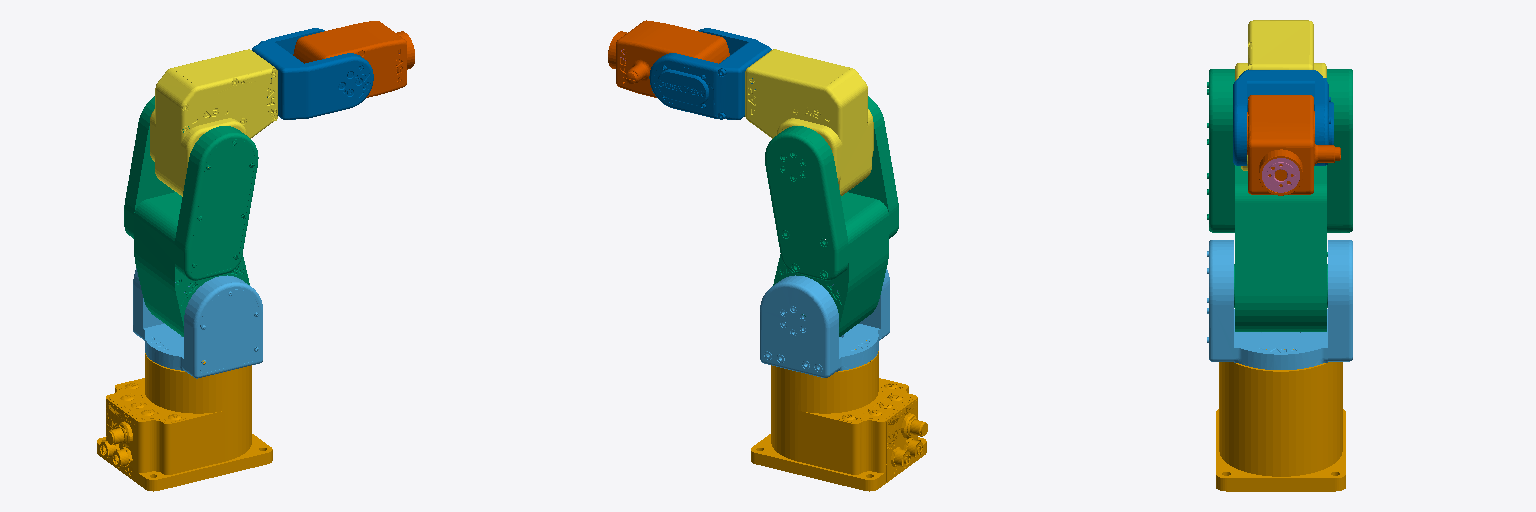
robot.urdf — meca_500_r3:
<?xml version="1.0" ?>
<!-- =================================================================================== -->
<!-- |    This document was autogenerated by xacro from meca_500_r3.urdf.xacro         | -->
<!-- |    EDITING THIS FILE BY HAND IS NOT RECOMMENDED                                 | -->
<!-- =================================================================================== -->
<robot name="meca_500_r3">
  <mujoco>
    <compiler 
    meshdir="meshes" 
    balanceinertia="true" 
    discardvisual="false" />
  </mujoco>
  <!-- Base link is the center of the robot's bottom plate -->
  <link name="meca_base_link">
    <visual>
      <origin rpy="0 0 0" xyz="0 0 0"/>
      <geometry>
        <mesh filename="meca_500_r3_base.stl" />
      </geometry>
    </visual>
    <collision>
      <origin rpy="0 0 0" xyz="0 0 0"/>
      <geometry>
        <mesh filename="meca_500_r3_base_collision.stl"/>
      </geometry>
    </collision>
  </link>
  <!-- Joint 1 -->
  <link name="meca_axis_1_link">
    <visual>
      <origin rpy="0 0 0" xyz="0 0 0"/>
      <geometry>
        <mesh filename="meca_500_r3_j1.stl"/>
      </geometry>
    </visual>
    <collision>
      <origin rpy="0 0 0" xyz="0 0 0"/>
      <geometry>
        <mesh filename="meca_500_r3_j1_collision.stl"/>
      </geometry>
    </collision>
  </link>
  <joint name="meca_axis_1_joint" type="revolute">
    <origin rpy="0 0 0" xyz="0.012498 0 0.091"/>
    <parent link="meca_base_link"/>
    <child link="meca_axis_1_link"/>
    <axis xyz="0 0 1"/>
    <limit effort="10.0" lower="-3.05433" upper="3.05433" velocity="2.61799"/>
  </joint>
  <!-- Joint 2 -->
  <link name="meca_axis_2_link">
    <visual>
      <origin rpy="0 0 0" xyz="0 0 0"/>
      <geometry>
        <mesh filename="meca_500_r3_j2.stl"/>
      </geometry>
    </visual>
    <collision>
      <origin rpy="0 0 0" xyz="0 0 0"/>
      <geometry>
        <mesh filename="meca_500_r3_j2_collision.stl"/>
      </geometry>
    </collision>
  </link>
  <joint name="meca_axis_2_joint" type="revolute">
    <origin rpy="0 0 0" xyz="0 0 0.044"/>
    <parent link="meca_axis_1_link"/>
    <child link="meca_axis_2_link"/>
    <axis xyz="0 1 0"/>
    <limit effort="10.0" lower="-1.22173048" upper="1.5708" velocity="2.61799"/>
  </joint>
  <!-- Joint 3 -->
  <link name="meca_axis_3_link">
    <visual>
      <origin rpy="0 0 0" xyz="0 0 0"/>
      <geometry>
        <mesh filename="meca_500_r3_j3.stl"/>
      </geometry>
    </visual>
    <collision>
      <origin rpy="0 0 0" xyz="0 0 0"/>
      <geometry>
        <mesh filename="meca_500_r3_j3_collision.stl"/>
      </geometry>
    </collision>
  </link>
  <joint name="meca_axis_3_joint" type="revolute">
    <origin rpy="0 0 0" xyz="0 0 0.135"/>
    <parent link="meca_axis_2_link"/>
    <child link="meca_axis_3_link"/>
    <axis xyz="0 1 0"/>
    <limit effort="10.0" lower="-2.35619" upper="1.22173048" velocity="3.14159"/>
  </joint>
  <!-- Joint 4 -->
  <link name="meca_axis_4_link">
    <visual>
      <origin rpy="0 0 0" xyz="0 0 0"/>
      <geometry>
        <mesh filename="meca_500_r3_j4.stl"/>
      </geometry>
    </visual>
    <collision>
      <origin rpy="0 0 0" xyz="0 0 0"/>
      <geometry>
        <mesh filename="meca_500_r3_j4_collision.stl"/>
      </geometry>
    </collision>
  </link>
  <joint name="meca_axis_4_joint" type="revolute">
    <origin rpy="0 0 0" xyz="0 0 0.038"/>
    <parent link="meca_axis_3_link"/>
    <child link="meca_axis_4_link"/>
    <axis xyz="1 0 0"/>
    <limit effort="10.0" lower="-2.96706" upper="2.96706" velocity="5.23599"/>
  </joint>
  <!-- Joint 5 -->
  <link name="meca_axis_5_link">
    <visual>
      <origin rpy="0 0 0" xyz="0 0 0"/>
      <geometry>
        <mesh filename="meca_500_r3_j5.stl"/>
      </geometry>
    </visual>
    <collision>
      <origin rpy="0 0 0" xyz="0 0 0"/>
      <geometry>
        <mesh filename="meca_500_r3_j5_collision.stl"/>
      </geometry>
    </collision>
  </link>
  <joint name="meca_axis_5_joint" type="revolute">
    <origin rpy="0 0 0" xyz="0.12 0 0"/>
    <parent link="meca_axis_4_link"/>
    <child link="meca_axis_5_link"/>
    <axis xyz="0 1 0"/>
    <limit effort="10.0" lower="-2.00713" upper="2.00713" velocity="5.23599"/>
  </joint>
  <!-- Joint 6 -->
  <link name="meca_axis_6_link">
    <visual>
      <origin rpy="0 0 0" xyz="0 0 0"/>
      <geometry>
        <mesh filename="meca_500_r3_j6.stl"/>
      </geometry>
    </visual>
    <collision>
      <origin rpy="0 0 0" xyz="0 0 0"/>
      <geometry>
        <mesh filename="meca_500_r3_j6_collision.stl"/>
      </geometry>
    </collision>
  </link>
  <joint name="meca_axis_6_joint" type="revolute">
    <origin rpy="0 0 0" xyz="0.07 0 0"/>
    <parent link="meca_axis_5_link"/>
    <child link="meca_axis_6_link"/>
    <axis xyz="1 0 0"/>
    <limit effort="10.0" lower="-3.14159" upper="3.14159" velocity="8.72665"/>
  </joint>
</robot>

--- Render facts (derived) ---
The picture shows the robot from 3 angles, left to right: view 1: azimuth 30°, elevation 25°; view 2: azimuth 150°, elevation 25°; view 3: azimuth 270°, elevation 25°; orthographic projection.
Model meca_500_r3 with 7 links and 6 joints (6 revolute), rooted at meca_base_link, posed all joints at 0.
Links seen in each view (by area): view 1: meca_axis_2_link, meca_base_link, meca_axis_3_link, meca_axis_1_link, meca_axis_4_link, meca_axis_5_link; view 2: meca_axis_2_link, meca_base_link, meca_axis_3_link, meca_axis_1_link, meca_axis_4_link, meca_axis_5_link; view 3: meca_axis_2_link, meca_base_link, meca_axis_1_link, meca_axis_5_link, meca_axis_4_link, meca_axis_3_link, meca_axis_6_link.
Link boxes in pixels (x1,y1,x2,y2): meca_axis_2_link: (124,96,258,336); meca_base_link: (97,353,272,491); meca_axis_3_link: (150,49,277,196); meca_axis_1_link: (133,268,262,378); meca_axis_4_link: (252,28,373,119); meca_axis_5_link: (293,21,414,97); meca_axis_2_link: (765,96,898,336); meca_base_link: (751,340,927,491); meca_axis_3_link: (745,49,873,195); meca_axis_1_link: (760,269,889,377); meca_axis_4_link: (649,28,771,119); meca_axis_5_link: (608,20,729,97); meca_axis_2_link: (1207,69,1352,331); meca_base_link: (1216,349,1345,491); meca_axis_1_link: (1207,240,1352,369); meca_axis_5_link: (1247,95,1340,195); meca_axis_4_link: (1233,70,1333,165); meca_axis_3_link: (1235,20,1326,170); meca_axis_6_link: (1262,158,1299,192).
Bounding box of the posed robot: 0.276 × 0.1014 × 0.331 m (x, y, z).
7 mesh visuals loaded from 7 distinct referenced files (7 binary STL).